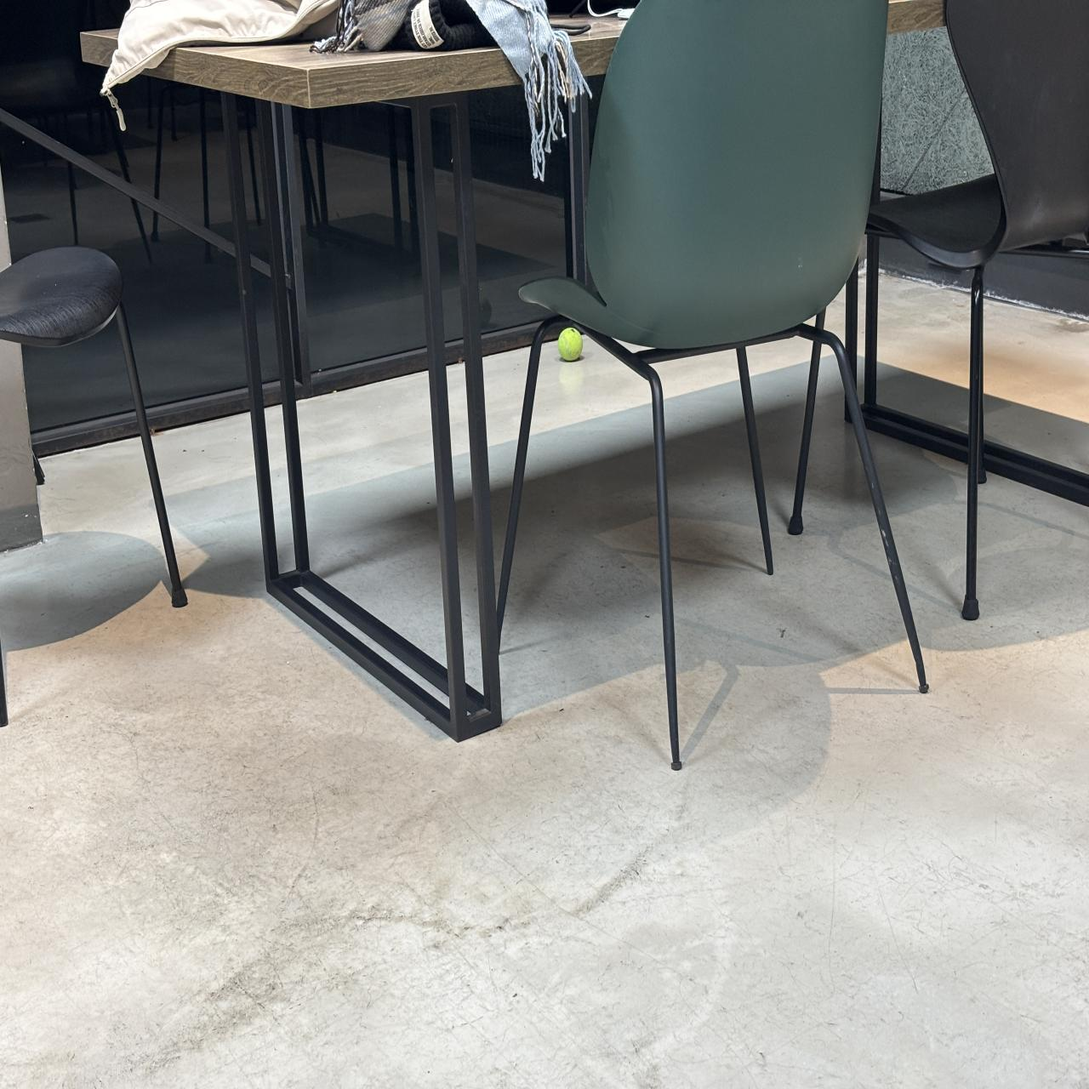tennisball: (557, 327, 583, 362)
